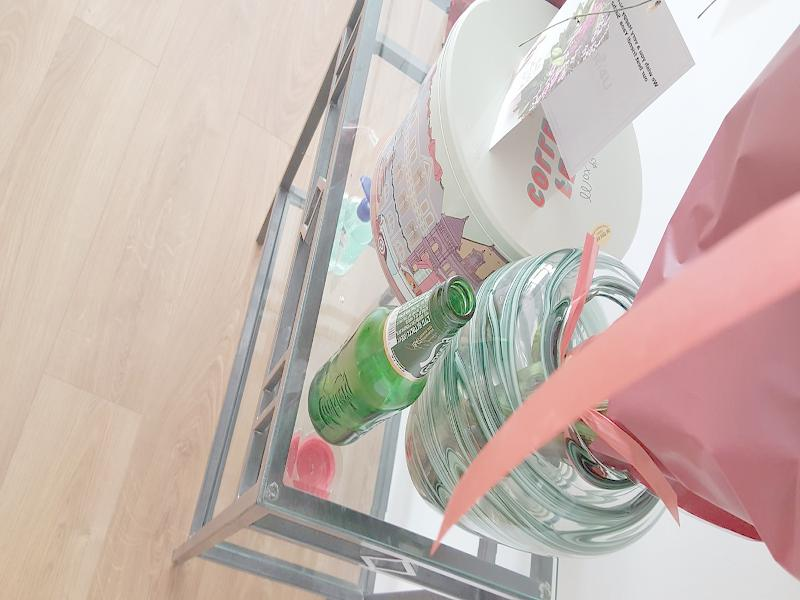Beer: (308, 277, 474, 448)
